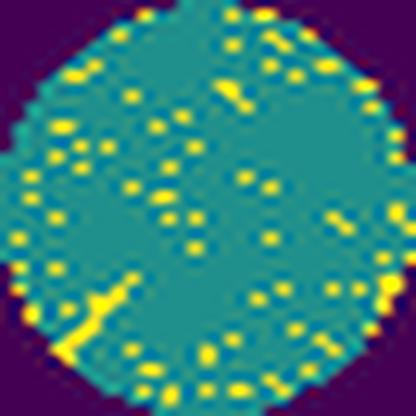Scratch: (50, 265, 146, 370)
